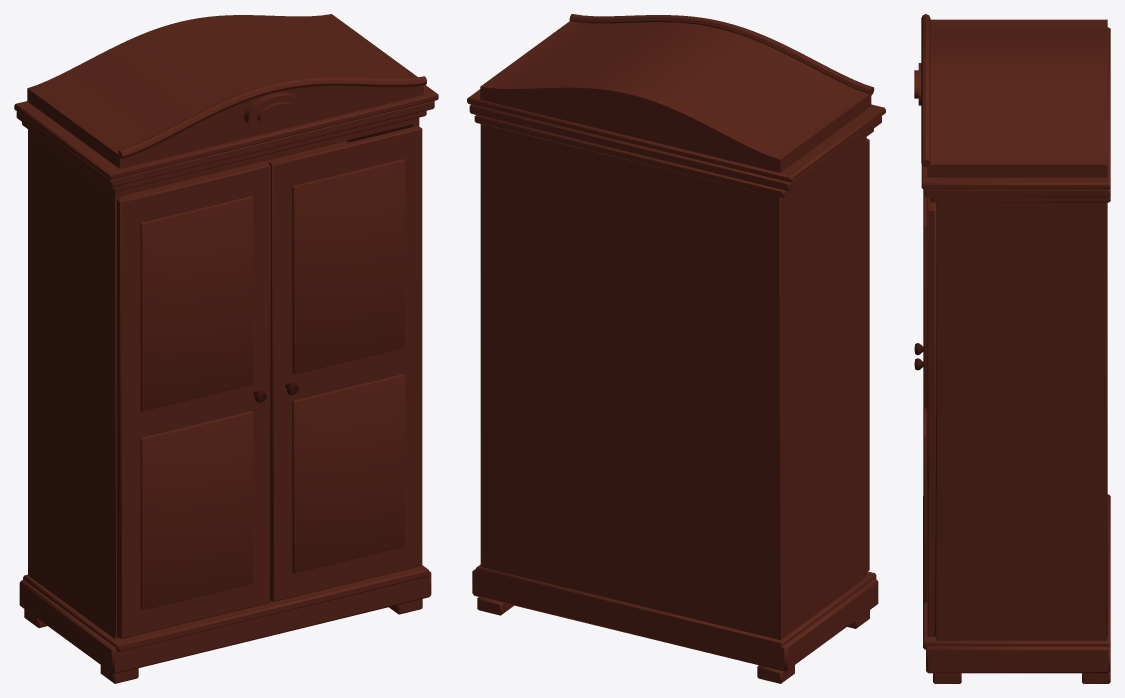
File: Wardrobe.glb
3 views of the same model, side by side, from view 1: azimuth 30°, elevation 25°; view 2: azimuth 150°, elevation 25°; view 3: azimuth 270°, elevation 25° (orthographic). The views are drawn at different scales.
Visible parts, largest first — view 1: Wardrobe_Body, Wardrobe_DoorL, Wardrobe_DoorR; view 2: Wardrobe_Body, Wardrobe_DoorL; view 3: Wardrobe_Body, Wardrobe_DoorR.
Part boxes in pixels (left/top/right/bottom): Wardrobe_Body: left=14, top=14, right=438, bottom=683; Wardrobe_DoorL: left=117, top=163, right=270, bottom=638; Wardrobe_DoorR: left=269, top=126, right=422, bottom=601; Wardrobe_Body: left=467, top=14, right=885, bottom=683; Wardrobe_DoorL: left=866, top=138, right=869, bottom=571; Wardrobe_Body: left=914, top=14, right=1110, bottom=683; Wardrobe_DoorR: left=923, top=189, right=935, bottom=636.
Bounding box in the file's own units: 1.3 × 2.13 × 0.685.
